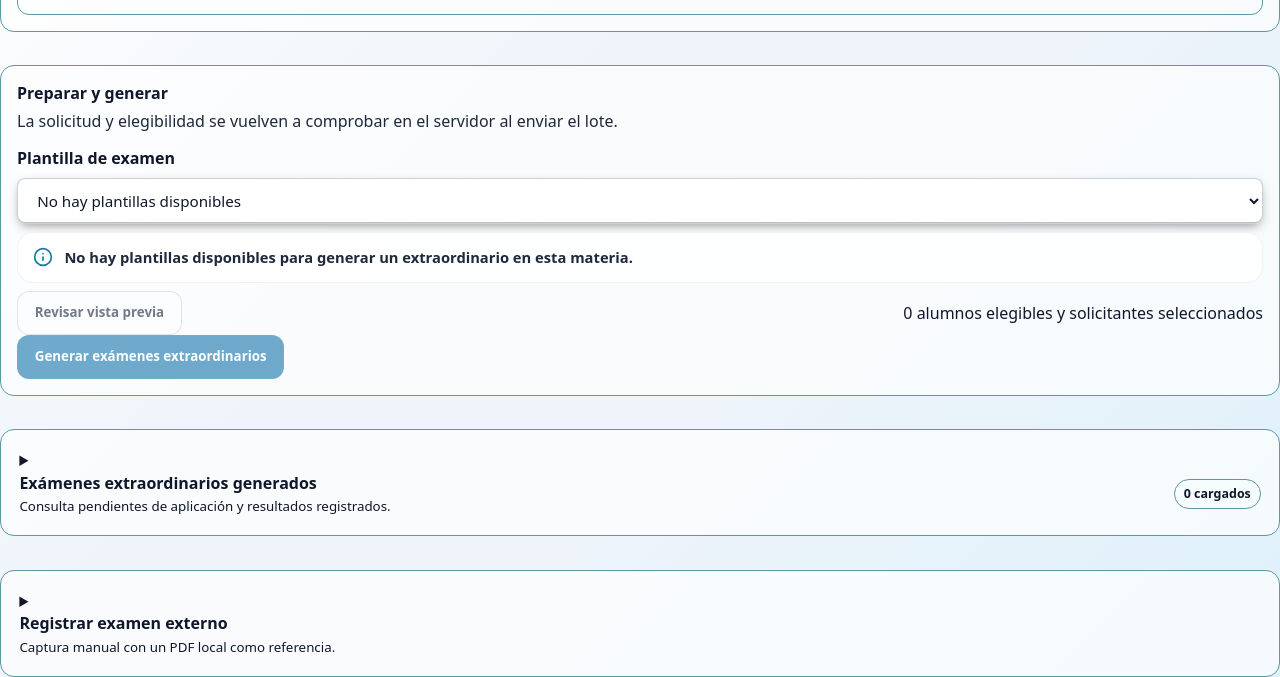
ExtraordinariosCalificaciones › explica el estado del registro externo cuando faltan solicitudes docentes
(page scrolled)
Click the text "Registrar examen externo" at x=124, y=624, box 19,612 -> 228,634
(page scrolled)
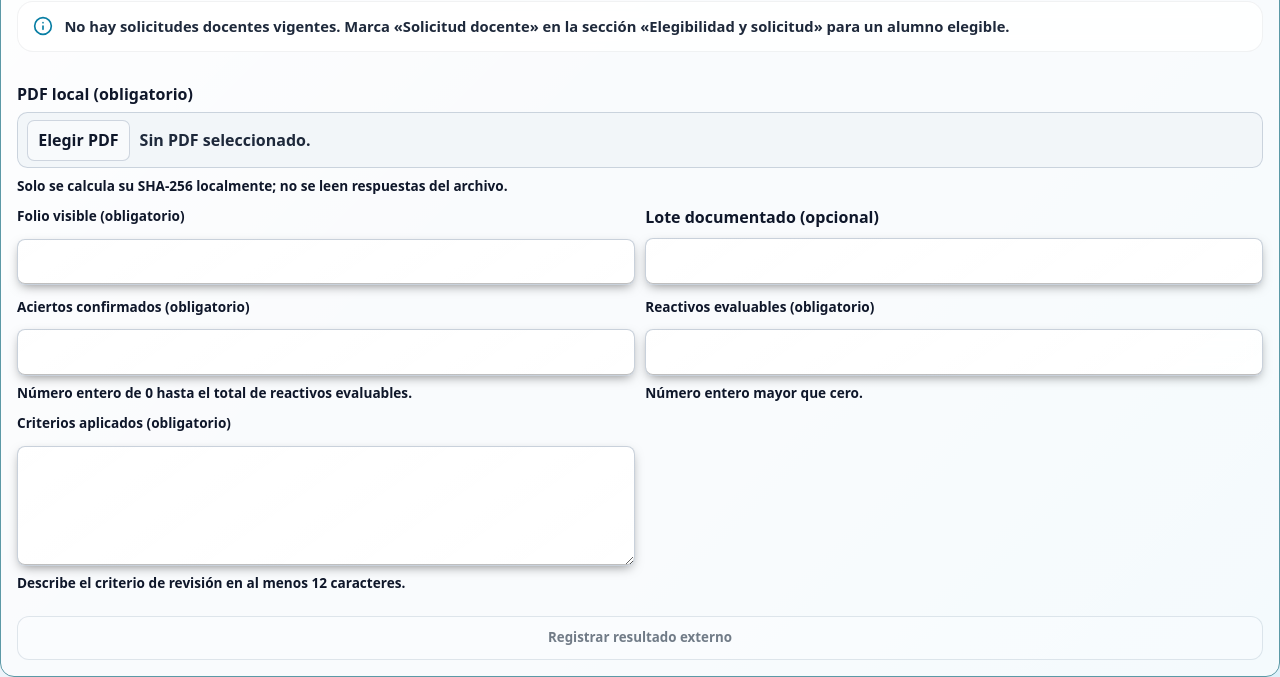
Expected: the text "No hay solicitudes docentes vigentes. Marca «Solicitud docente» en la sección «Elegibilidad y solicitud» para un alumno " is shown, 64,16 -> 1010,36
Expected: the button "Registrar resultado externo" is disabled, 17,616 -> 1263,660
